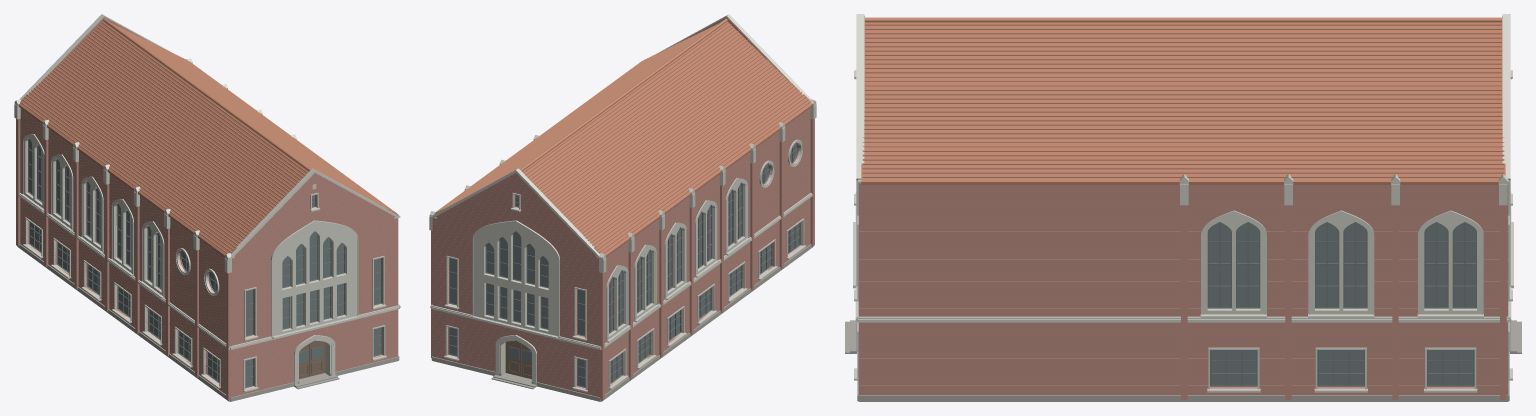
Rendered from yangpu-hujiang-university-auditorium-raw.glb.
3 renders of one model, left to right at view 1: azimuth 30°, elevation 25°; view 2: azimuth 150°, elevation 25°; view 3: azimuth 270°, elevation 25°, orthographic. The views are drawn at different scales.
Parts seen in each view (by area): view 1: 沪江大学大学礼堂（1937年主礼堂）; view 2: 沪江大学大学礼堂（1937年主礼堂）; view 3: 沪江大学大学礼堂（1937年主礼堂）.
Boxes of the visible parts, x1=… form: 沪江大学大学礼堂（1937年主礼堂）: x1=14, y1=14, x2=400, y2=401; 沪江大学大学礼堂（1937年主礼堂）: x1=429, y1=14, x2=816, y2=401; 沪江大学大学礼堂（1937年主礼堂）: x1=845, y1=14, x2=1521, y2=401.
Bounding box in the file's own units: 17.75 × 20.5 × 38.78.
